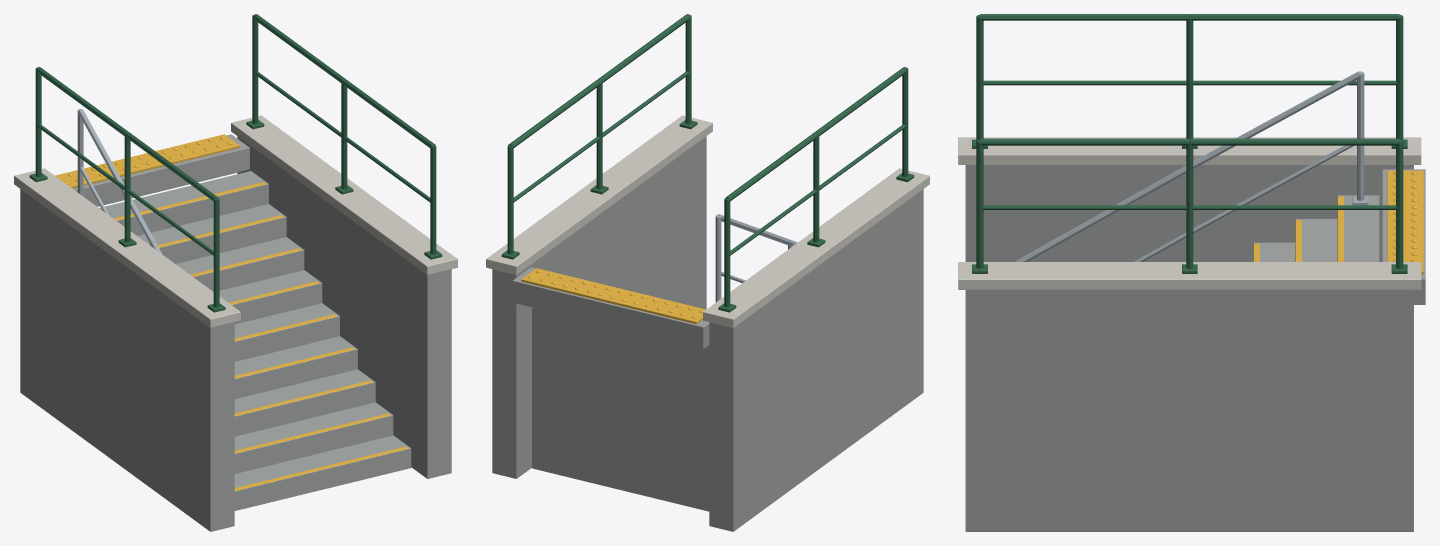
Rendered from b13_subway_sidewalk_stair_entrance.glb.
The picture shows the model from 3 angles, left to right: view 1: azimuth 30°, elevation 25°; view 2: azimuth 150°, elevation 25°; view 3: azimuth 270°, elevation 25°; orthographic projection. The views are drawn at different scales.
Parts seen in each view (by area): view 1: b13_subway_sidewalk_stair_entrance; view 2: b13_subway_sidewalk_stair_entrance; view 3: b13_subway_sidewalk_stair_entrance.
Part boxes in pixels (<box>): b13_subway_sidewalk_stair_entrance: <box>14,14,457,531</box>; b13_subway_sidewalk_stair_entrance: <box>486,14,929,531</box>; b13_subway_sidewalk_stair_entrance: <box>958,14,1425,531</box>.
Size of the model in its own units: 2.33 by 2.94 by 3.23.
